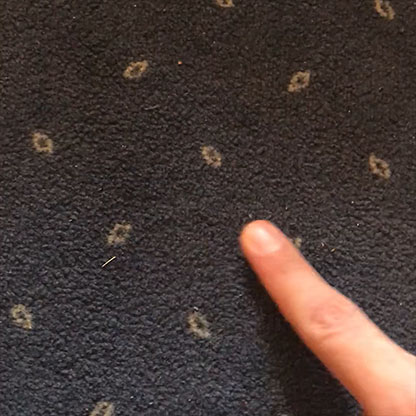fingertip: (240, 212, 296, 265)
